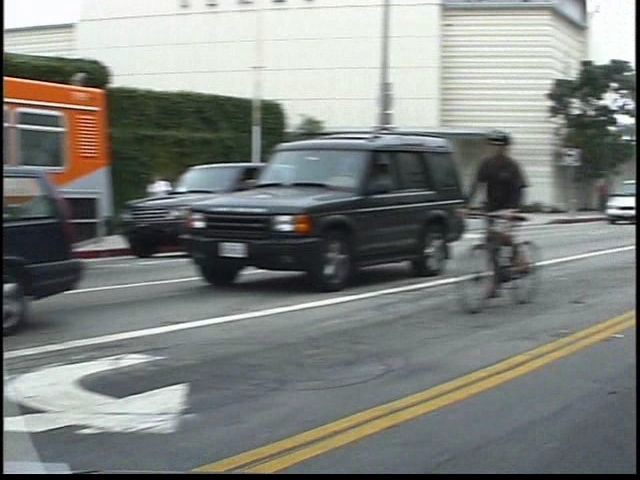person: (490, 125, 556, 302), (167, 171, 197, 242), (615, 171, 630, 221)
